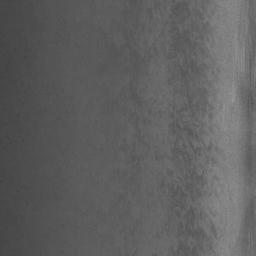Silk spot: (107, 0, 224, 256), (111, 220, 141, 256)
